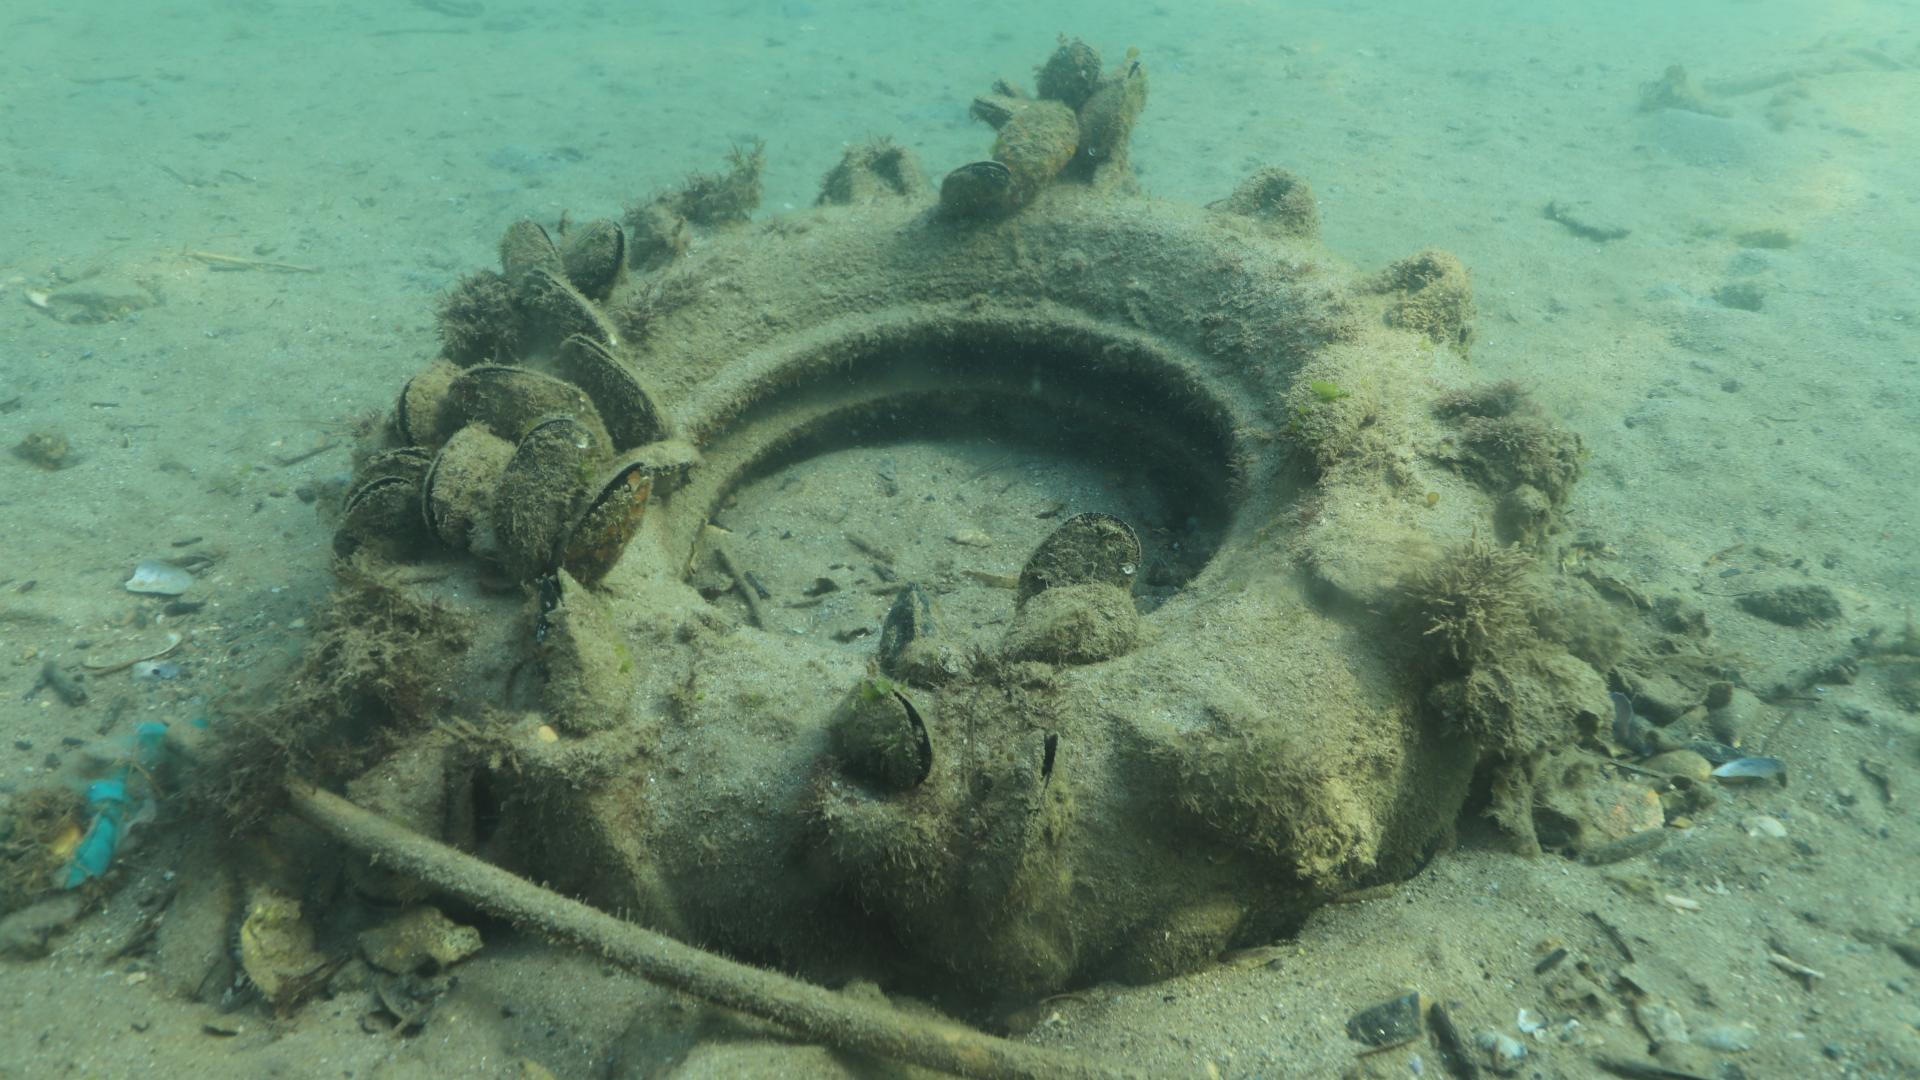tire: (330, 146, 1547, 1026)
wood: (265, 761, 1127, 1080)
